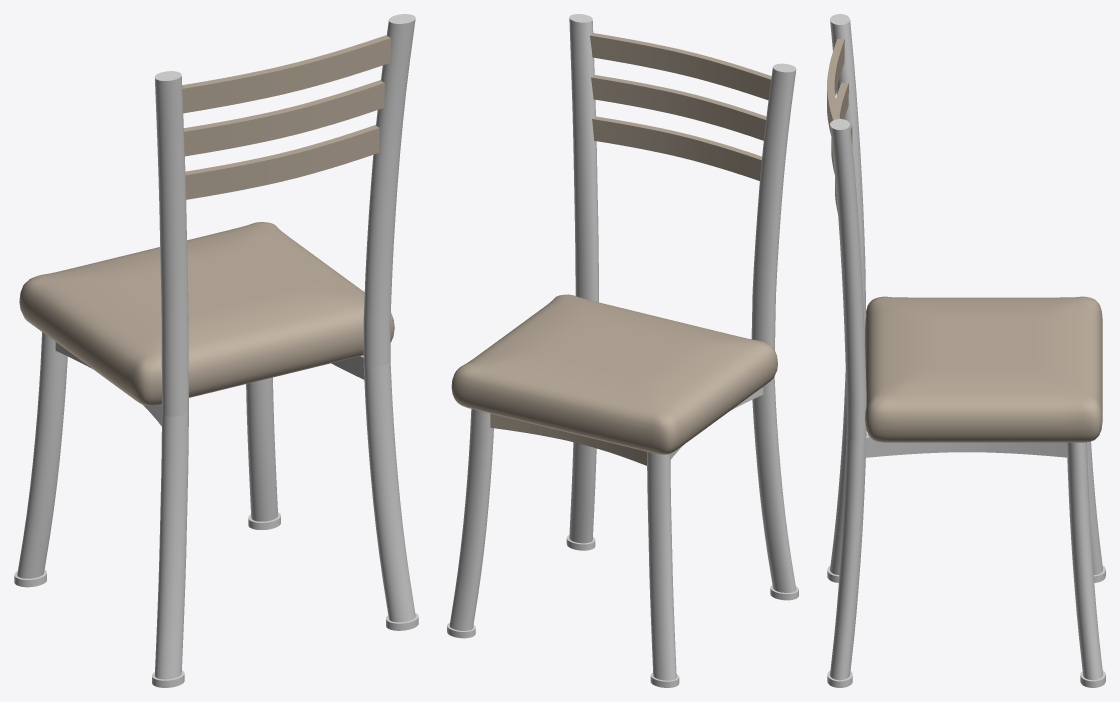
File: Chaise1_3.fbx
3 renders of one model, left to right at view 1: azimuth 30°, elevation 25°; view 2: azimuth 150°, elevation 25°; view 3: azimuth 270°, elevation 25°, orthographic. The views are drawn at different scales.
Parts seen in each view (by area): view 1: pCube2654, pCylinder1646, pCylinder1647, pCylinder1651, pCylinder1650, pCylinder1648, pCube2653, pCube2652, pCube2651, pCylinder1649; view 2: pCube2654, pCylinder1646, pCylinder1647, pCylinder1648, pCylinder1649, pCylinder1651, pCube2653, pCube2652, pCube2651, pCylinder1650, pCube2659; view 3: pCube2654, pCylinder1647, pCylinder1650, pCylinder1649, pCylinder1646, pCube2655, pCylinder1651, pCylinder1648, pCube2653, pCube2652.
Part boxes in pixels (x1,y1,x2,y2): pCube2654: (19, 222, 394, 405); pCylinder1646: (154, 71, 188, 416); pCylinder1647: (363, 14, 415, 367); pCylinder1651: (152, 411, 188, 687); pCylinder1650: (363, 362, 418, 630); pCylinder1648: (14, 332, 67, 587); pCube2653: (182, 35, 391, 113); pCube2652: (184, 80, 384, 156); pCube2651: (185, 125, 379, 199); pCylinder1649: (246, 377, 280, 529); pCube2654: (451, 294, 777, 454); pCylinder1646: (751, 63, 796, 349); pCylinder1647: (569, 14, 598, 302); pCylinder1648: (647, 452, 679, 687); pCylinder1649: (447, 409, 493, 638); pCylinder1651: (752, 376, 798, 600); pCube2653: (590, 33, 771, 100); pCube2652: (591, 75, 766, 140); pCube2651: (592, 116, 761, 180); pCylinder1650: (566, 442, 596, 550); pCube2659: (490, 413, 646, 465); pCube2654: (865, 296, 1102, 442); pCylinder1647: (830, 119, 866, 440); pCylinder1650: (827, 436, 865, 687); pCylinder1649: (1067, 442, 1105, 687); pCylinder1646: (830, 14, 866, 337); pCube2655: (865, 433, 1067, 457); pCylinder1651: (827, 373, 846, 582); pCylinder1648: (1087, 441, 1105, 582); pCube2653: (827, 38, 844, 134); pCube2652: (831, 82, 848, 174).
Bounding box in the file's own units: 38.53 × 84.55 × 38.35.
